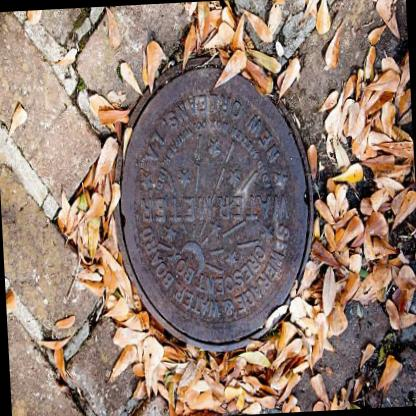manholes: (86, 28, 334, 374)
